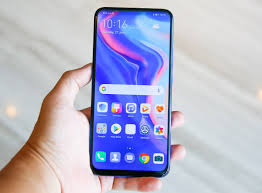huawei: (87, 5, 171, 177)
